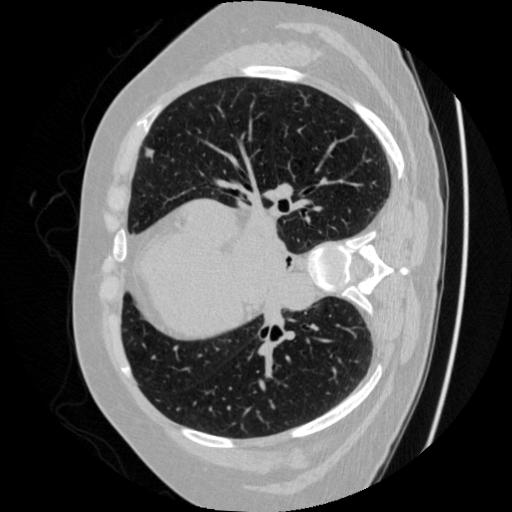nodule: (143, 145, 157, 159)
